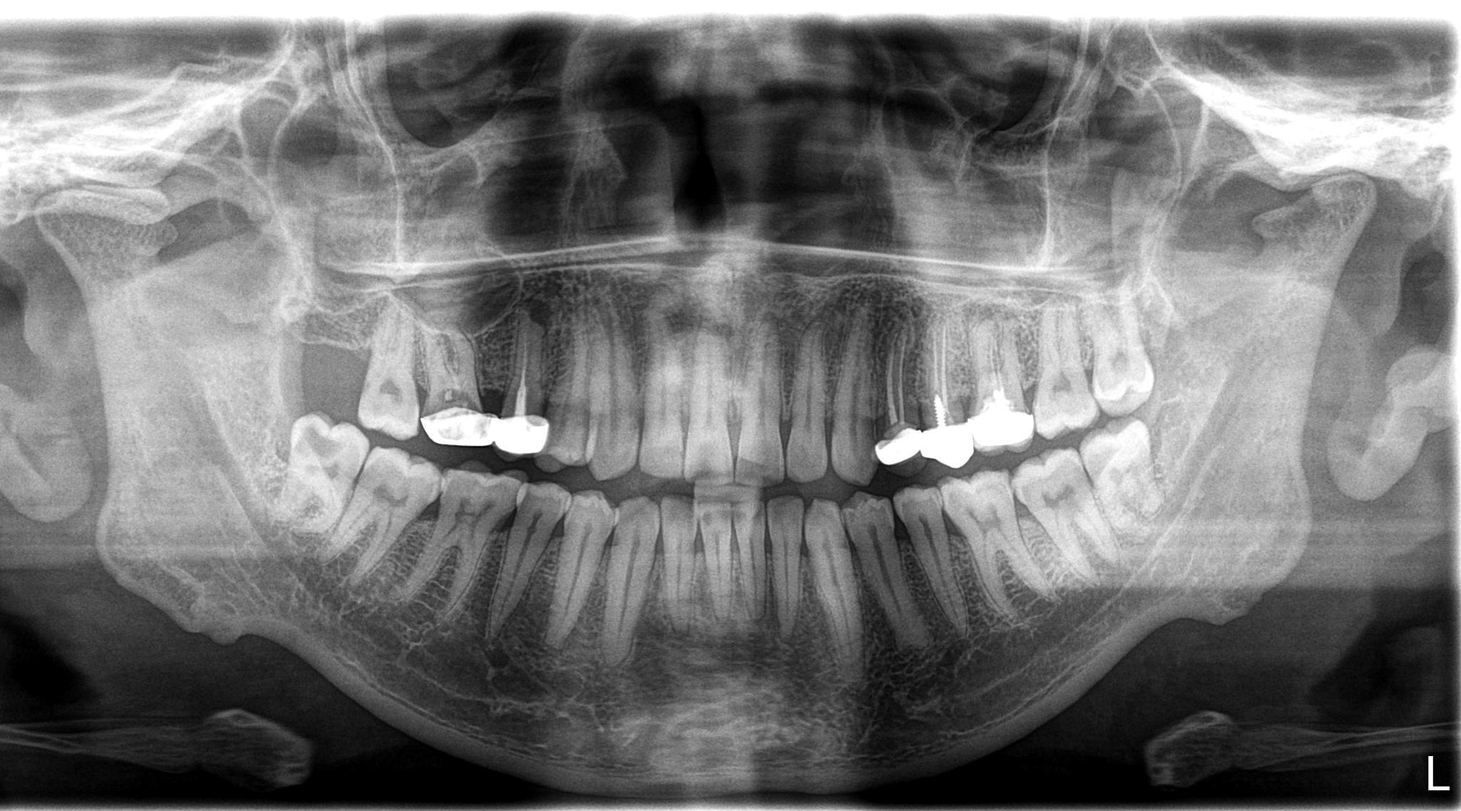Dental Caries: (421, 326, 484, 380)
Endodontically Treated Tooth: (428, 326, 493, 449), (974, 317, 1031, 455), (924, 325, 969, 465), (877, 323, 920, 467), (498, 333, 551, 443)
Impacted Third Molar: (1086, 426, 1171, 540), (291, 421, 360, 539)
Missing Tooth: (296, 298, 366, 419)
